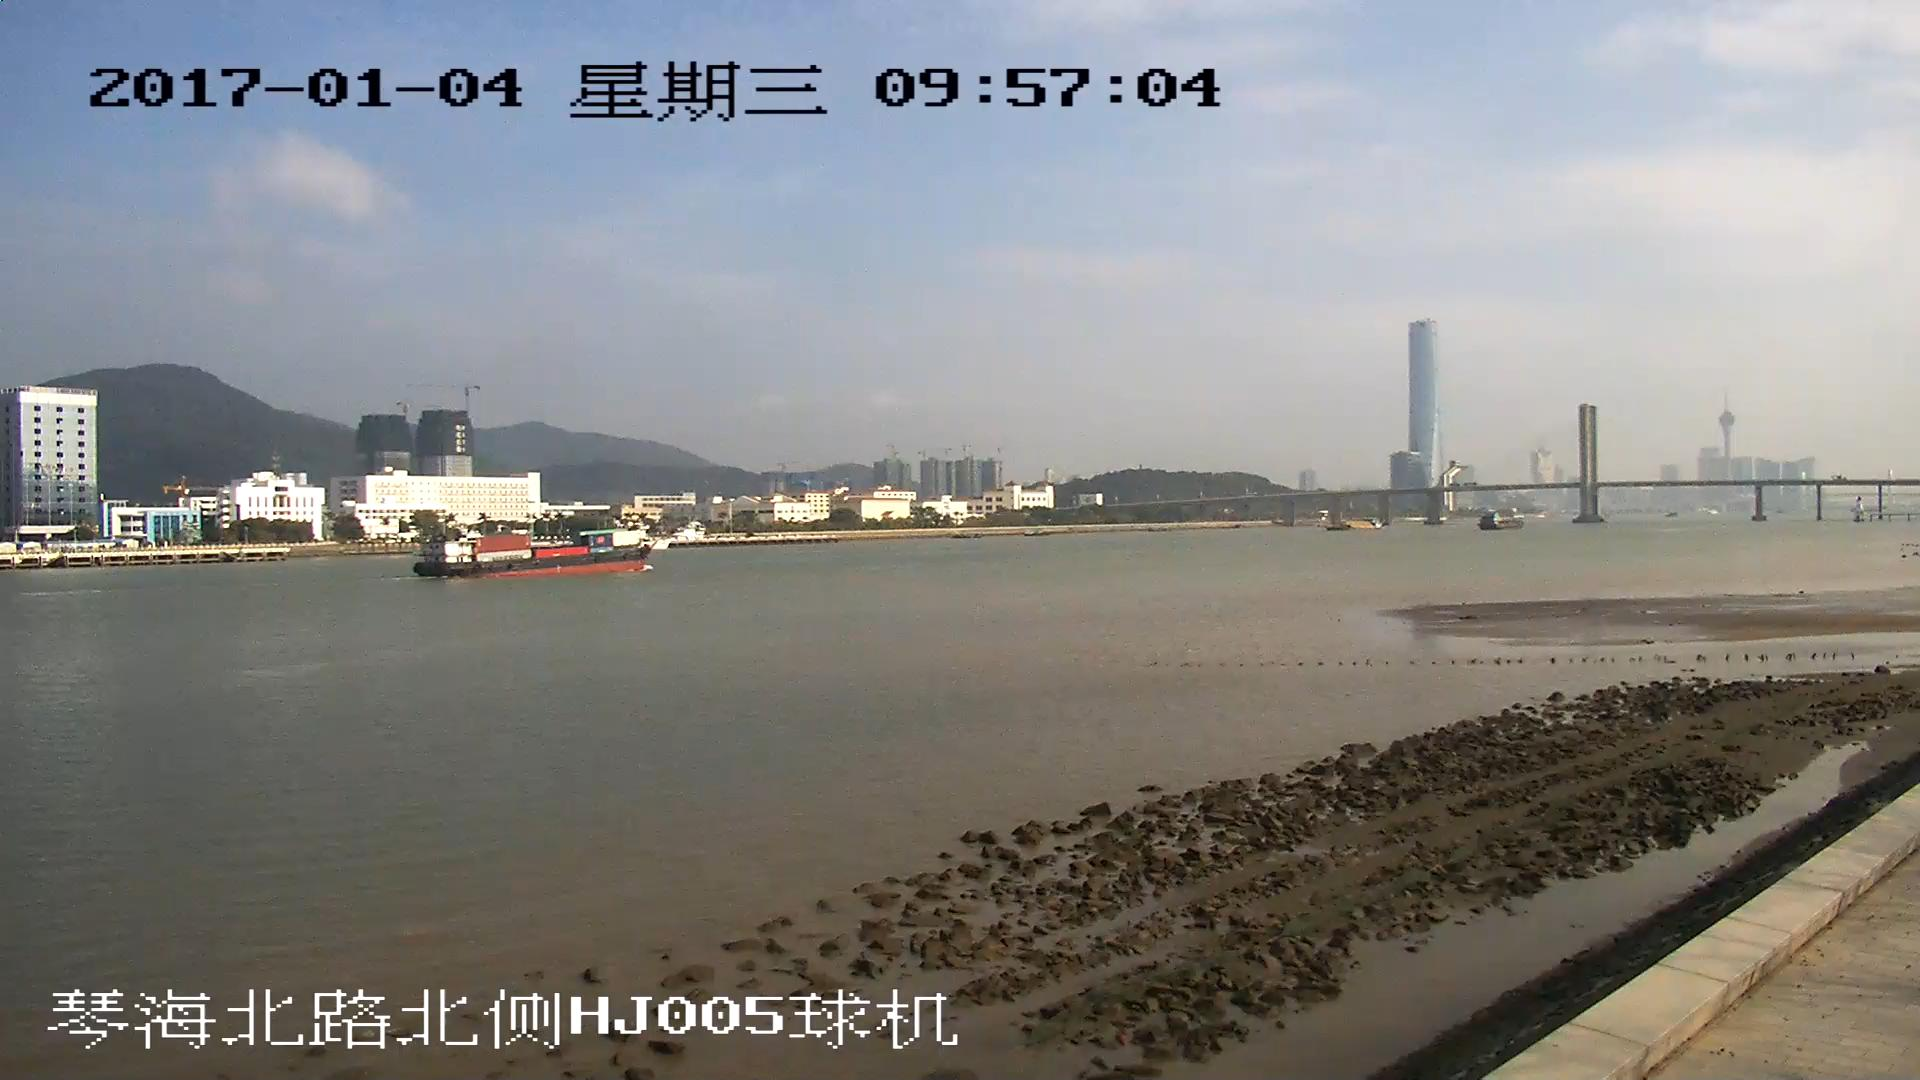container ship: (410, 528, 647, 575)
